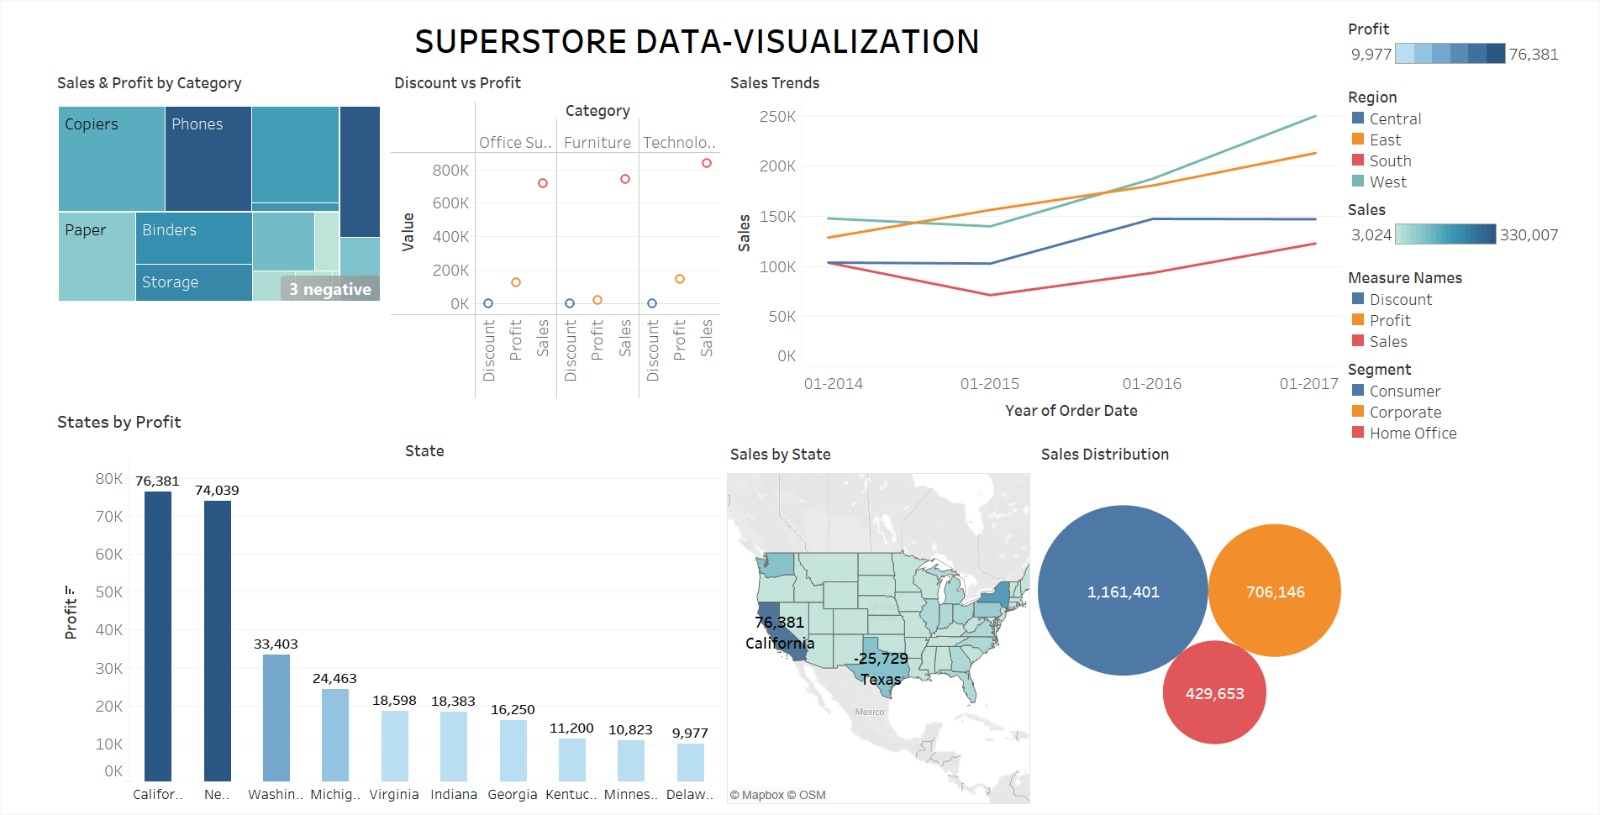

What the dashboard file says about the page in this screenshot:
{"tool":"tableau","page":{"name":"Dashboard 1","canvas":[1000,1000],"units":"permille","ordinal":0},"visuals":[{"type":"title","box":[5.1,10.7,822.7,80.4]},{"type":"legend","title":"States by Profit","param":"[federated.0e1lh500ldotrz1gq1efp0ytfd9o].[sum:Profit:qk]","box":[827.7,10.7,167.2,108.6]},{"type":"worksheet","title":"Sales & Profit by category","mark":"Automatic","box":[5.1,91.2,214,408.8]},{"type":"worksheet","title":"Discount vs Profit ","mark":"Shape","cols":["Category"],"box":[219.1,91.2,214.1,408.8]},{"type":"worksheet","title":"Sales Trend","mark":"Automatic","rows":["Sales"],"cols":["Order Date"],"box":[433.2,91.2,394.6,449.1]},{"type":"legend","title":"Sales Trend","param":"[federated.0e1lh500ldotrz1gq1efp0ytfd9o].[none:Region:nk]","box":[827.7,119.3,167.2,179.6]},{"type":"legend","title":"Sales & Profit by category","param":"[federated.0e1lh500ldotrz1gq1efp0ytfd9o].[sum:Sales:qk]","box":[827.7,298.9,167.2,108.6]},{"type":"legend","title":"Discount vs Profit ","param":"[federated.0e1lh500ldotrz1gq1efp0ytfd9o].[:Measure Names]","box":[827.7,407.5,167.2,146.1]},{"type":"worksheet","title":"States by Profit","mark":"Automatic","rows":["Profit"],"cols":["State"],"box":[5.1,500,428.1,489.3]},{"type":"worksheet","title":"Sales by State","mark":"Automatic","box":[433.2,540.2,197.3,449.1]},{"type":"worksheet","title":"Sales Distribution","mark":"Circle","box":[630.5,540.2,197.3,449.1]},{"type":"legend","title":"Sales Distribution","param":"[federated.0e1lh500ldotrz1gq1efp0ytfd9o].[none:Segment:nk]","box":[827.7,553.6,167.2,146.1]}]}

Visuals, with their boxes on the dashboard's canvas, which has no fixed pixel size, in thousandths of its width and height (x1, y1, x2, y2). These are canvas units, not pixel positions in the 1600x815 screenshot, which may show the page scaled, cropped or inside an application window:
title: [5,11,828,91]
"States by Profit" legend: [828,11,995,119]
"Sales & Profit by category" worksheet: [5,91,219,500]
"Discount vs Profit " worksheet (Shape marks): [219,91,433,500]
"Sales Trend" worksheet: [433,91,828,540]
"Sales Trend" legend: [828,119,995,299]
"Sales & Profit by category" legend: [828,299,995,408]
"Discount vs Profit " legend: [828,408,995,554]
"States by Profit" worksheet: [5,500,433,989]
"Sales by State" worksheet: [433,540,630,989]
"Sales Distribution" worksheet (Circle marks): [630,540,828,989]
"Sales Distribution" legend: [828,554,995,700]
